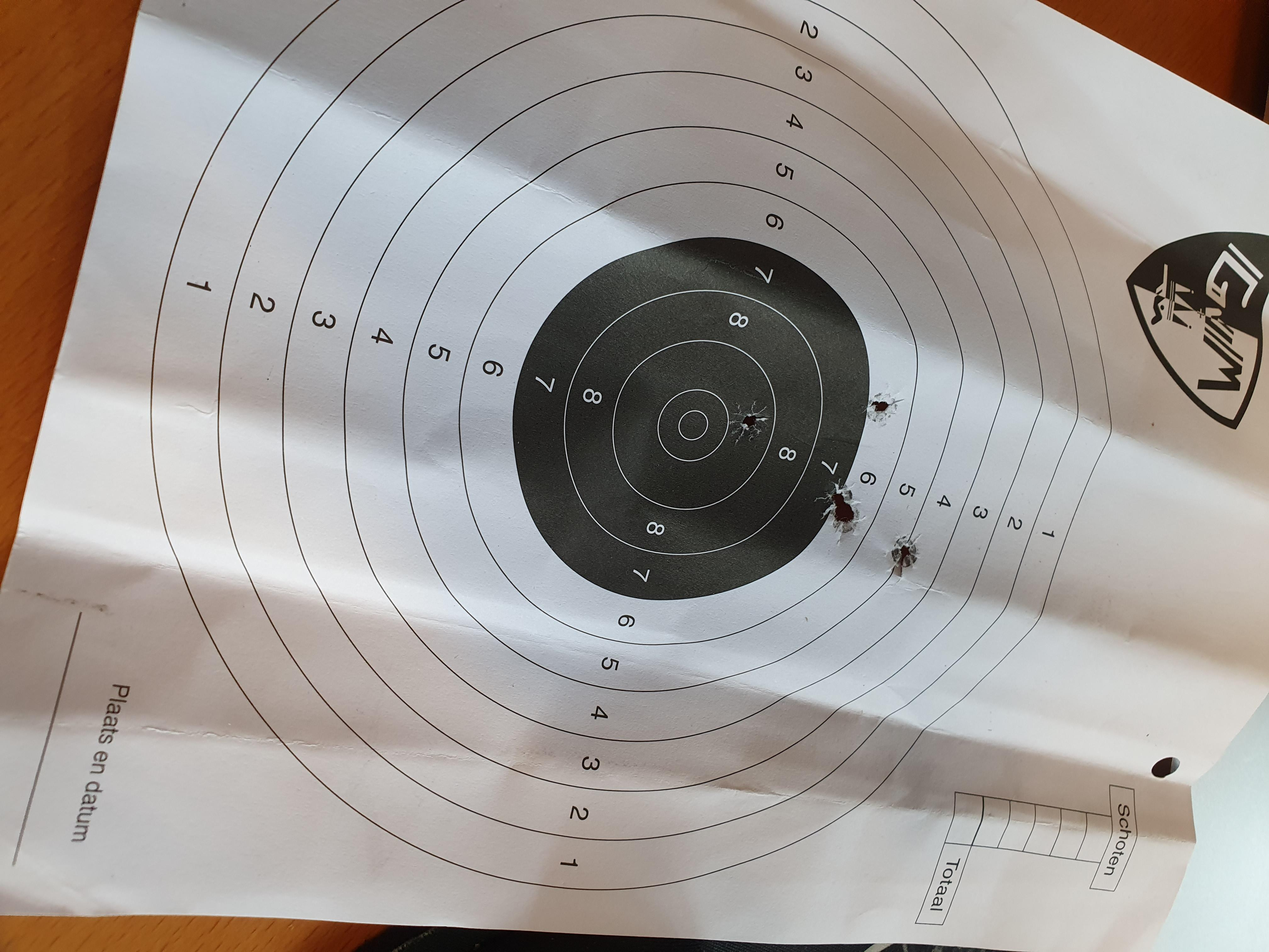hole: (705, 255, 771, 289), (539, 368, 588, 405), (515, 276, 568, 302), (666, 303, 713, 330), (634, 314, 677, 338)
